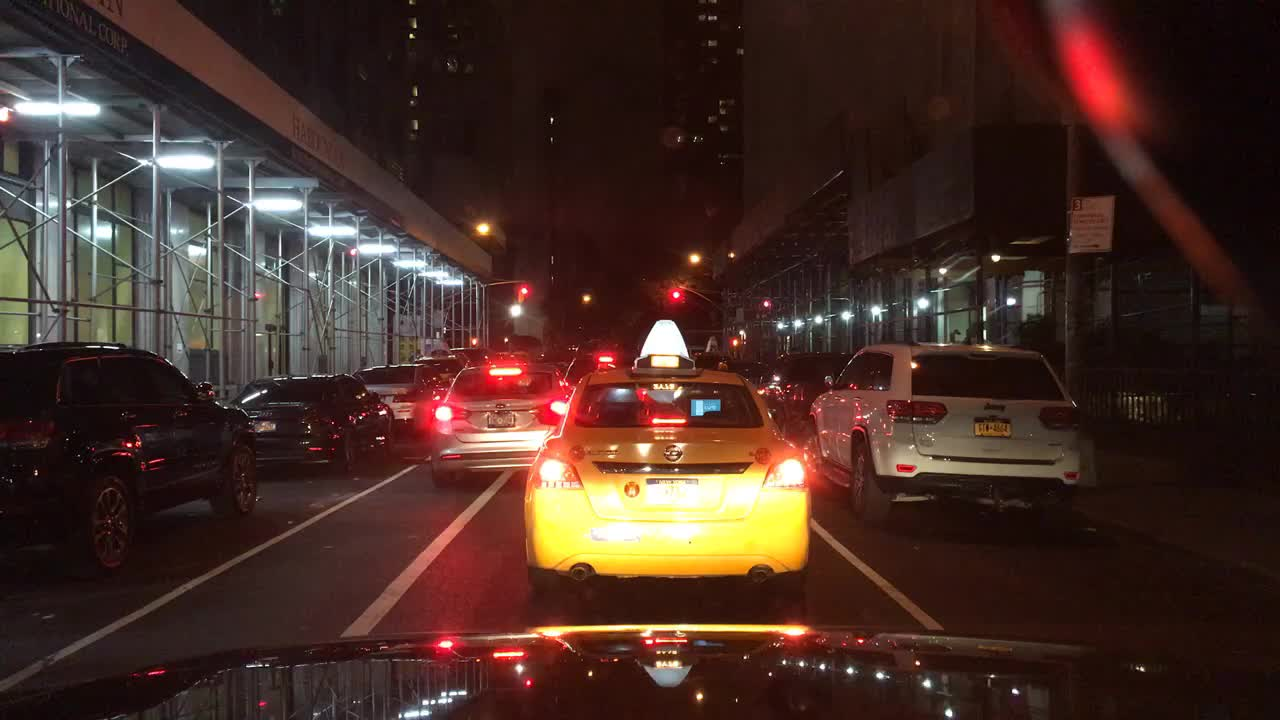car: (520, 318, 813, 601), (0, 340, 264, 577), (806, 341, 1086, 534), (225, 372, 398, 481), (428, 365, 576, 485), (763, 351, 852, 440), (351, 361, 441, 439), (414, 356, 462, 388), (501, 336, 545, 360), (448, 345, 496, 364), (742, 362, 771, 387), (690, 350, 720, 366), (718, 355, 736, 371)
traffic light: (0, 106, 15, 128), (595, 353, 618, 367), (517, 283, 530, 299), (666, 288, 679, 302), (470, 334, 479, 347), (728, 337, 738, 347), (350, 248, 358, 260), (762, 299, 771, 309)
traffic sign: (1068, 196, 1114, 255)
